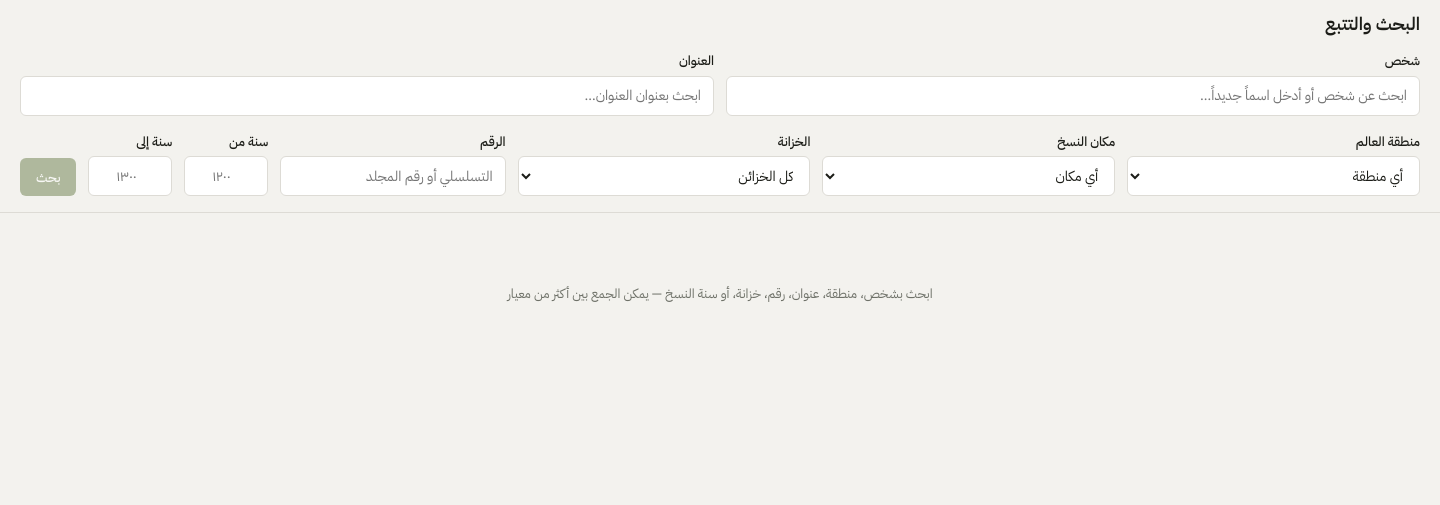
Test case: TraceScreen — results table › renders role tabs with counts and a placeholder row under الكل
In the field labelled "العنوان": [367, 96] box [20,76,714,116], type "ر"
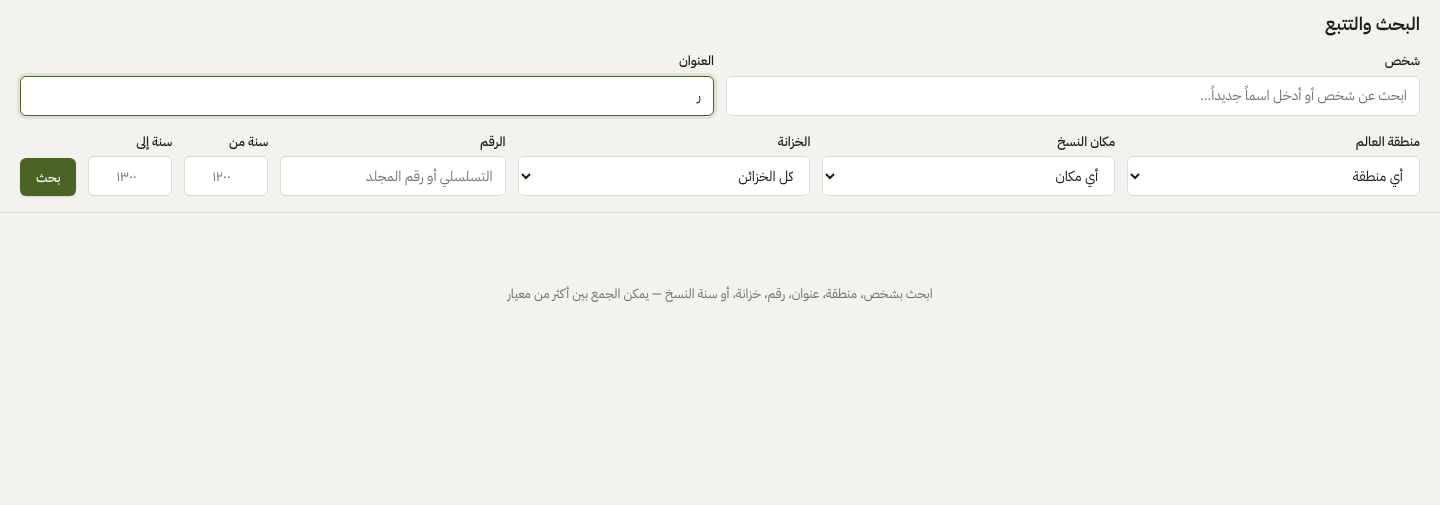
Click the button "بحث": [48, 177] box [20,158,76,196]
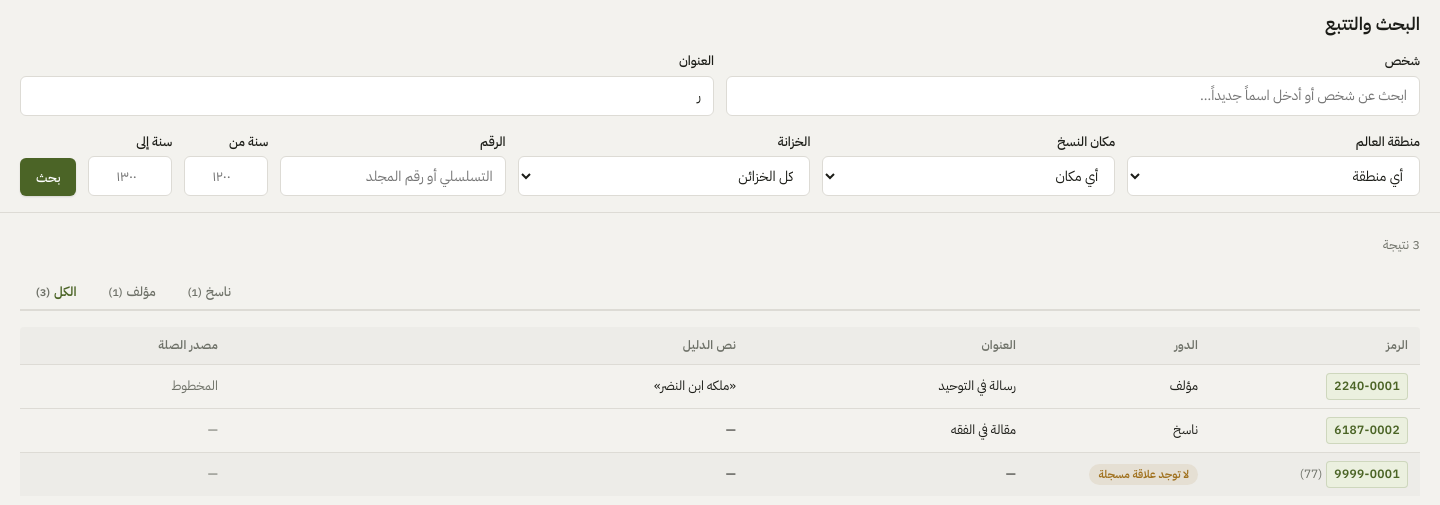
Check: the text "3 نتيجة" is shown, box [1383,235,1420,254]
Check: the tab "الكل(3)" is shown, box [20,274,92,311]
Check: the tab "مؤلف(1)" is shown, box [92,274,172,311]
